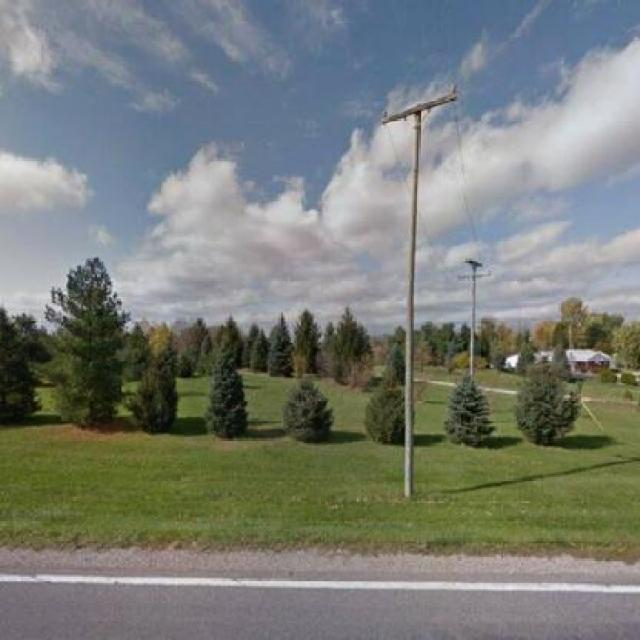crossarm: (384, 90, 459, 124)
pole: (404, 105, 422, 500)
